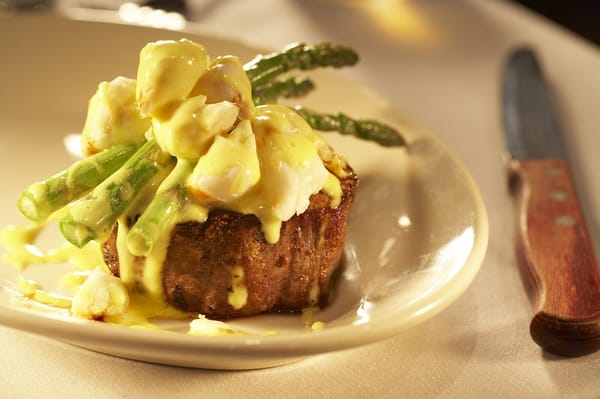curry: (243, 41, 359, 104)
sandwich: (502, 47, 600, 356)
